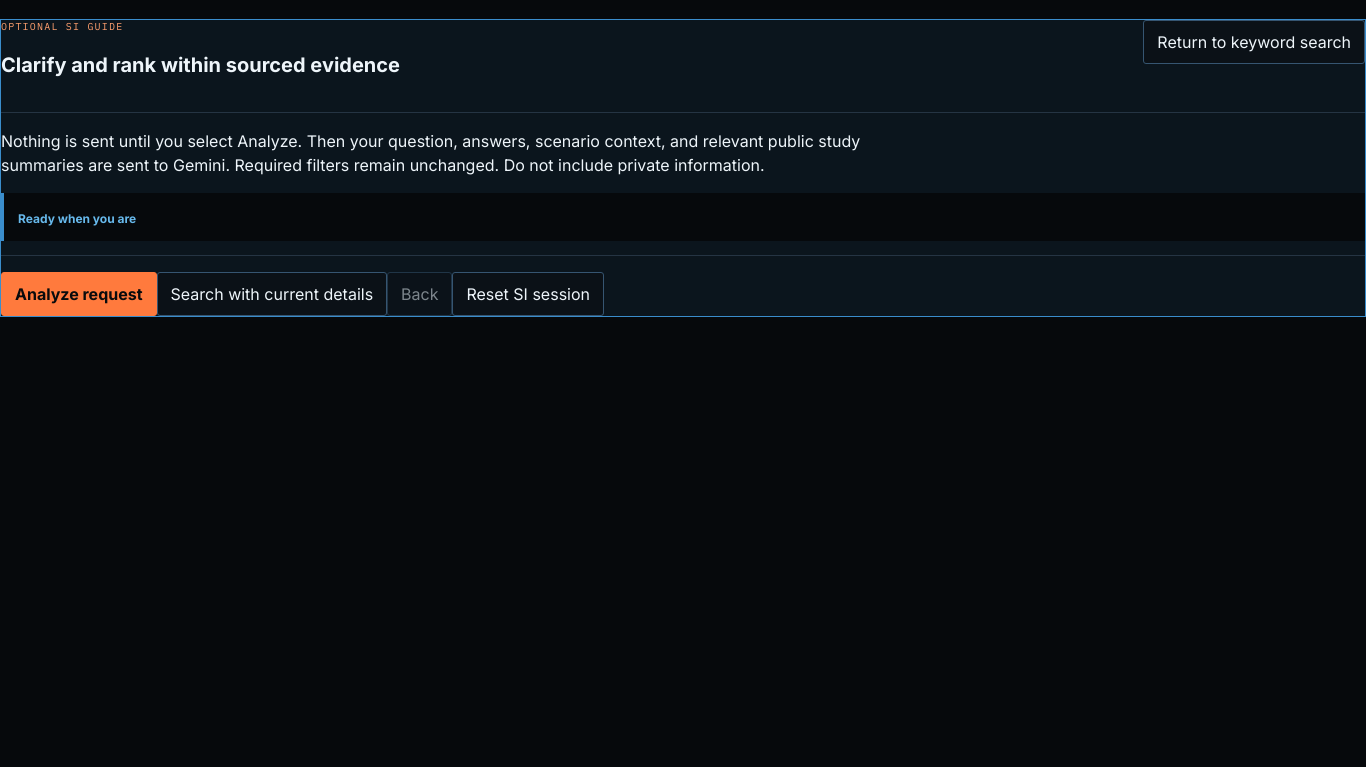
it: opening panel, selecting a chip, and editing answers make no inference calls
Later steps or results of the test are not shown.
Click the button "Analyze request".
click(79, 294)  # box x1=1 y1=272 x2=156 y2=316
(page scrolled)
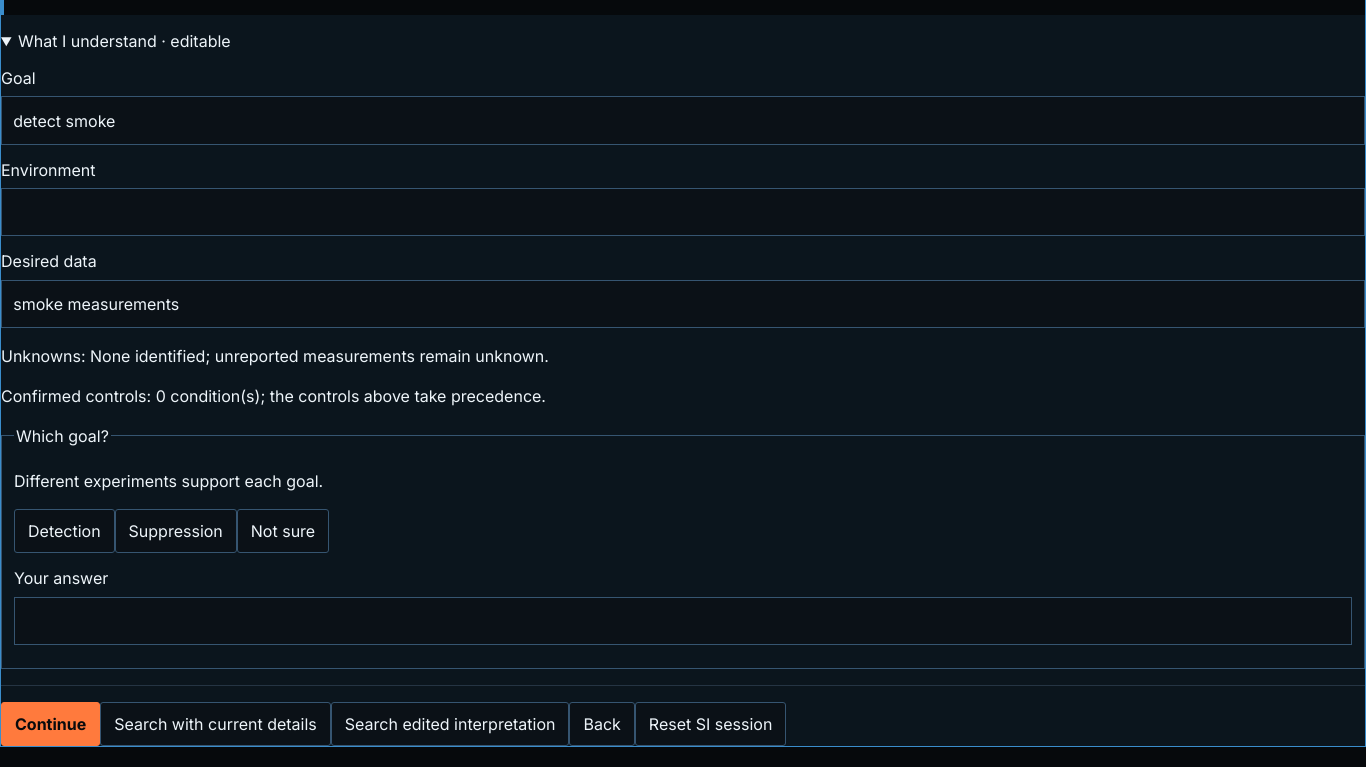
Now the text "Which goal?" is shown, box x1=14 y1=424 x2=111 y2=448
Now the button "Detection" is shown, box x1=14 y1=510 x2=115 y2=554
